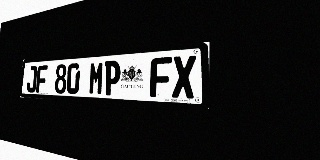0: (66, 63, 80, 94)
8: (54, 64, 67, 94)
F: (150, 57, 172, 98), (36, 65, 48, 93)
J: (26, 66, 37, 93)
M: (88, 61, 104, 95)
P: (103, 60, 121, 96)
X: (172, 55, 196, 99)
